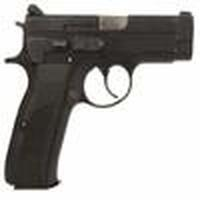gun: (2, 3, 200, 148)
